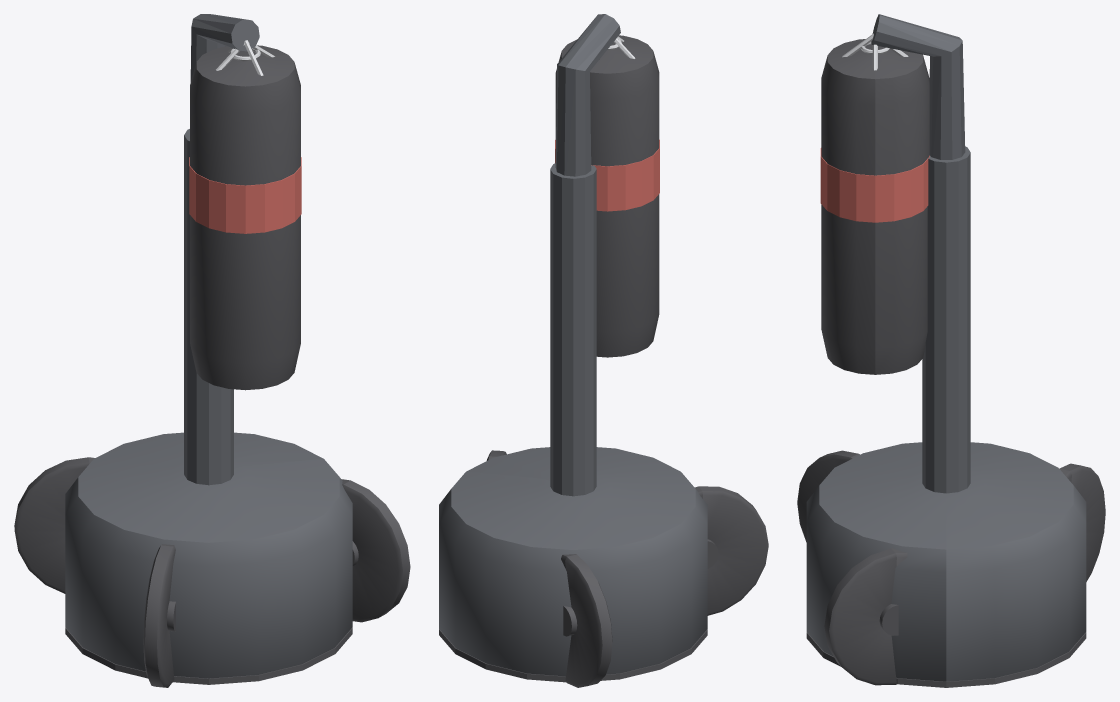
The model's file is punching_bag.glb.
3 views of the same model, side by side, from view 1: azimuth 30°, elevation 25°; view 2: azimuth 150°, elevation 25°; view 3: azimuth 270°, elevation 25° (orthographic). The views are drawn at different scales.
Visible parts, largest first — view 1: punching-bag-on-stand, bag/rubber, bag/accent; view 2: punching-bag-on-stand, bag/rubber, bag/accent; view 3: punching-bag-on-stand, bag/rubber, bag/accent.
Boxes of the visible parts, <box> form: punching-bag-on-stand: <box>14,14,410,687</box>; bag/rubber: <box>190,45,300,390</box>; bag/accent: <box>189,157,301,233</box>; punching-bag-on-stand: <box>439,14,768,687</box>; bag/rubber: <box>555,35,659,357</box>; bag/accent: <box>555,139,659,211</box>; punching-bag-on-stand: <box>797,14,1105,687</box>; bag/rubber: <box>821,39,929,374</box>; bag/accent: <box>820,148,929,222</box>.
Bounding box in the file's own units: 0.9692 × 2.1 × 0.9553.
